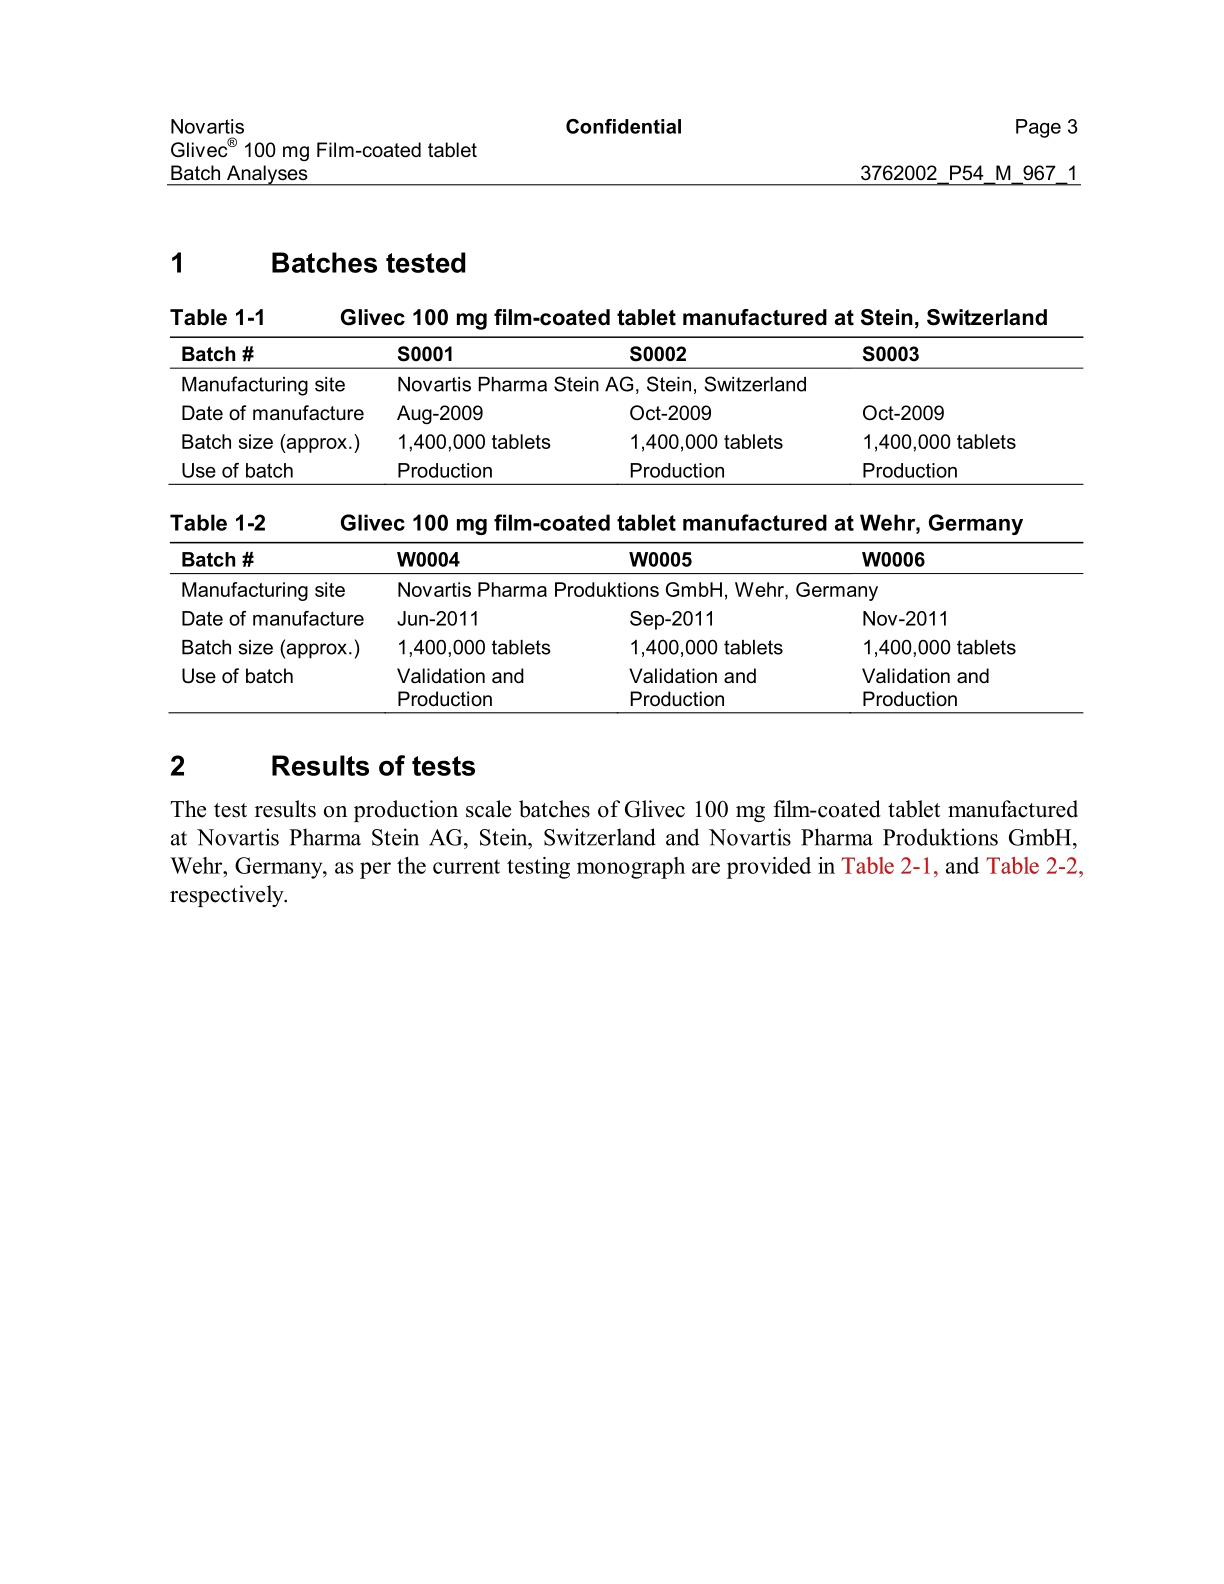partial_lined: (168, 540, 1085, 715), (171, 336, 1084, 487)
